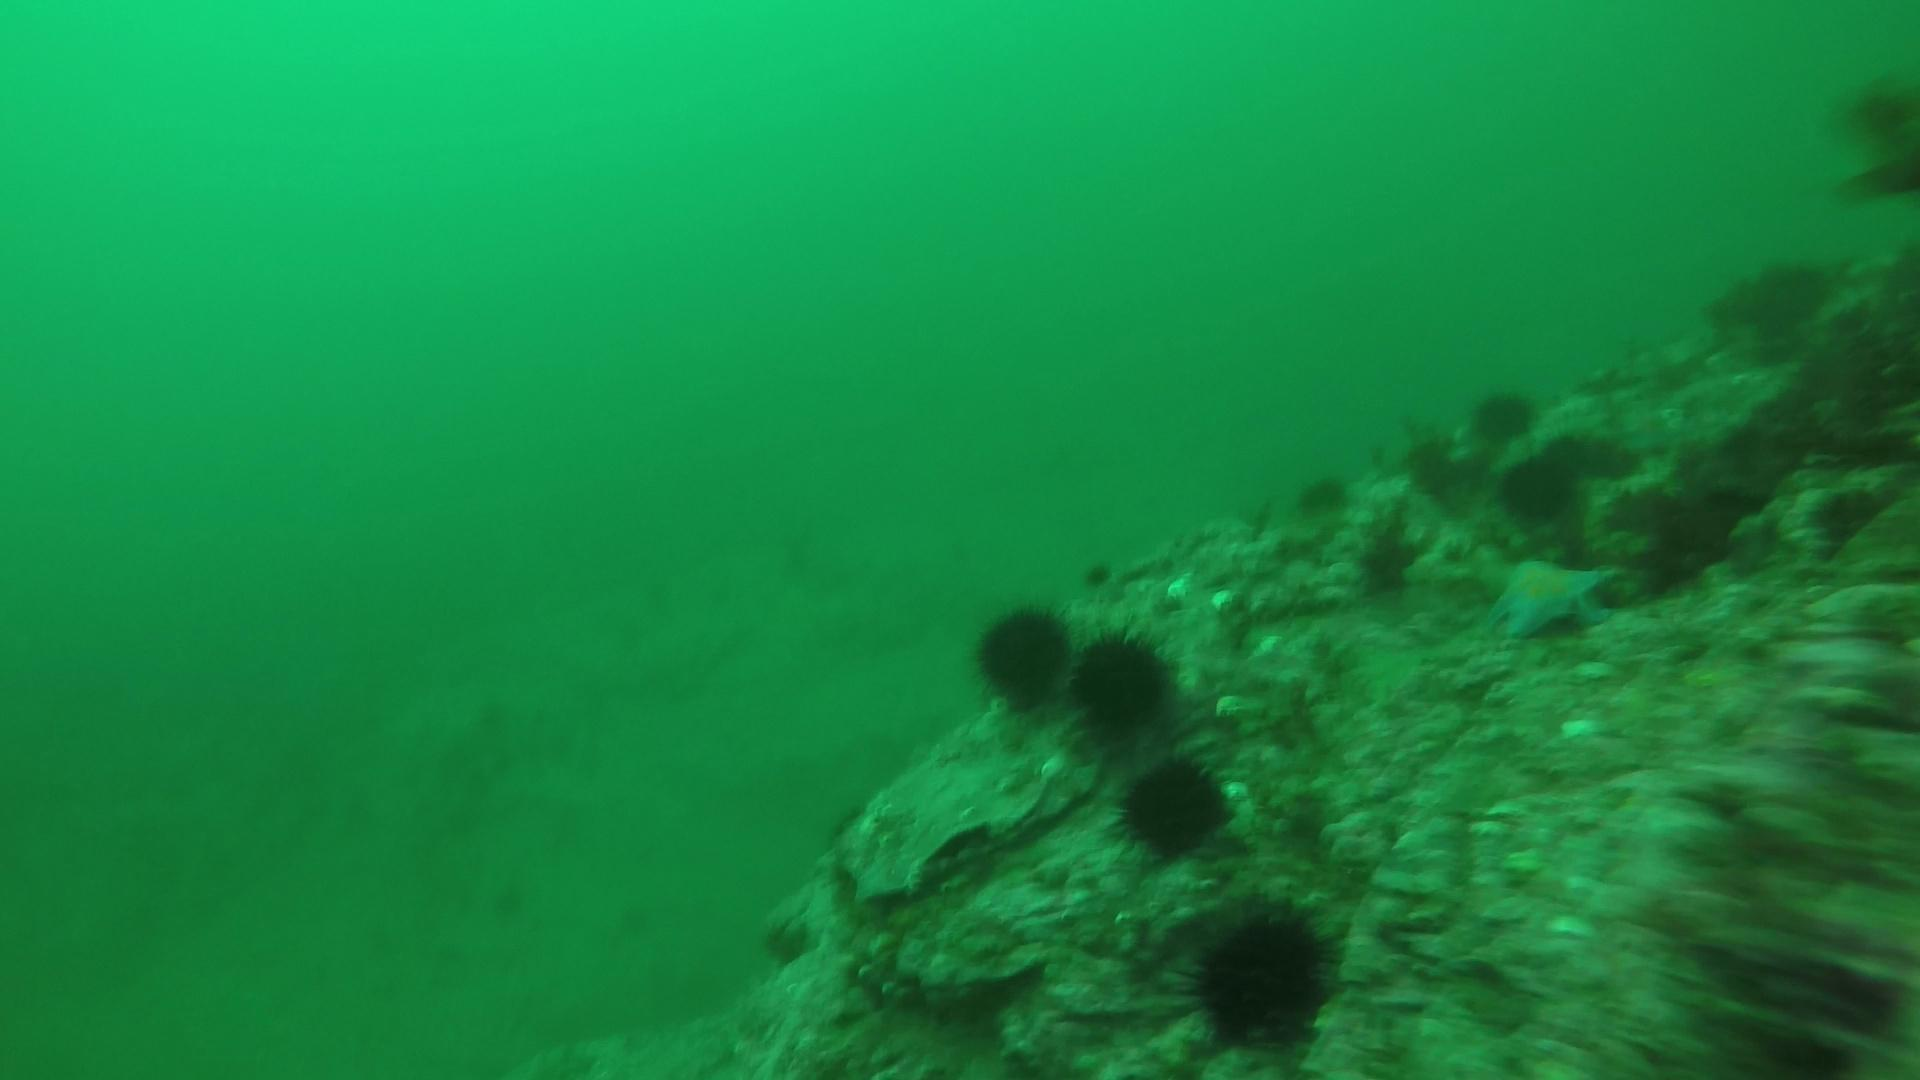urchin: (1193, 899, 1356, 1054), (967, 585, 1075, 711), (1059, 621, 1171, 738), (1129, 744, 1232, 851), (1724, 258, 1837, 345), (1497, 446, 1575, 529), (1472, 375, 1536, 444), (1298, 473, 1346, 527)
